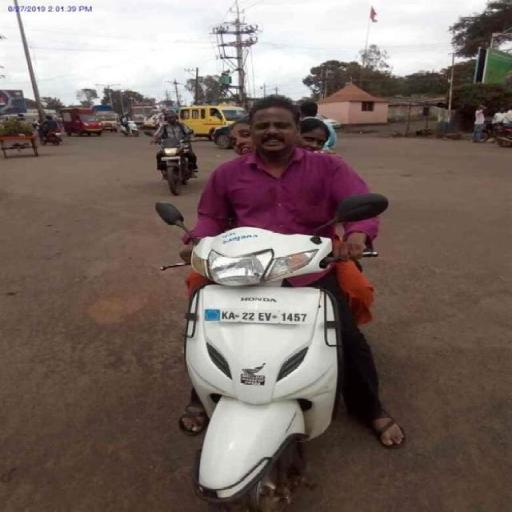tripple riding: (212, 88, 356, 234)
